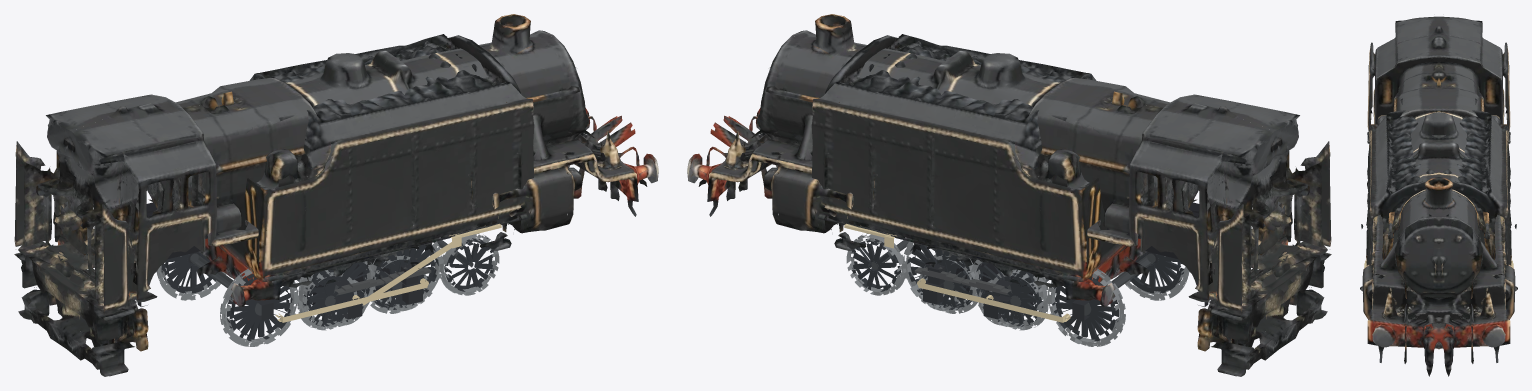
Rendered from black_five_gear.glb.
3 views of the same model, side by side, from view 1: azimuth 30°, elevation 25°; view 2: azimuth 150°, elevation 25°; view 3: azimuth 270°, elevation 25° (orthographic). The views are drawn at different scales.
Visible parts, largest first — view 1: engine, tender, engine.mirror, engine_gear, tender_gear, tender.mirror, bogie_black_five_leading_gear; view 2: engine.mirror, tender.mirror, engine, engine_gear, tender_gear, tender, bogie_black_five_leading_gear; view 3: engine, engine.mirror, tender, tender.mirror.
Boxes of the visible parts, x1,y1,x2,y2 form: engine: (59, 17, 658, 376); tender: (197, 47, 534, 307); engine.mirror: (14, 14, 622, 348); engine_gear: (156, 223, 501, 346); tender_gear: (296, 233, 499, 330); tender.mirror: (198, 34, 480, 268); bogie_black_five_leading_gear: (311, 264, 431, 325); engine.mirror: (687, 17, 1286, 376); tender.mirror: (811, 47, 1148, 307); engine: (723, 14, 1331, 348); engine_gear: (844, 223, 1189, 346); tender_gear: (846, 233, 1049, 330); tender: (865, 34, 1147, 268); bogie_black_five_leading_gear: (914, 258, 1034, 325); engine: (1362, 16, 1438, 376); engine.mirror: (1439, 16, 1515, 376); tender: (1360, 110, 1434, 291); tender.mirror: (1443, 110, 1517, 291).
Size of the model in its own units: 9.94 by 4.03 by 3.07.
1 material, 1 textured.
